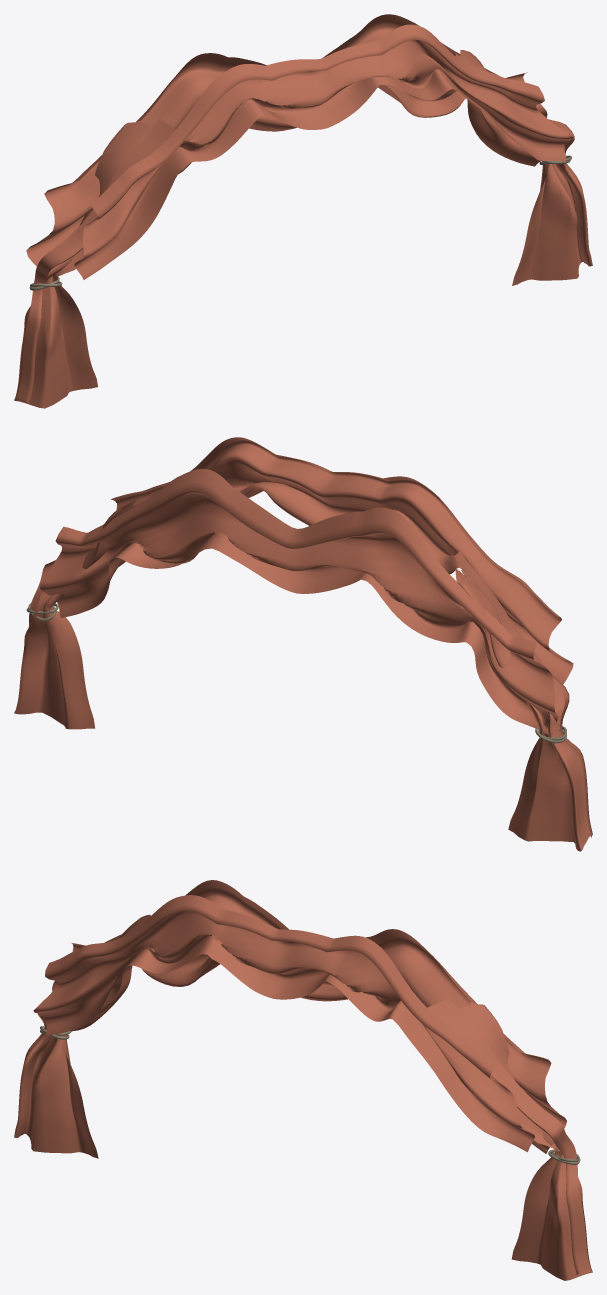
The model's file is theater_stage_curtains.glb.
3 views of the same model, one above another, from view 1: azimuth 30°, elevation 25°; view 2: azimuth 150°, elevation 25°; view 3: azimuth 330°, elevation 25° (orthographic).
Parts seen in each view (by area): view 1: curtains3; view 2: curtains3; view 3: curtains3.
Boxes of the visible parts, left/top/right/bottom form: curtains3: left=14, top=14, right=592, bottom=408; curtains3: left=14, top=437, right=592, bottom=851; curtains3: left=14, top=880, right=592, bottom=1280.
Bounding box in the file's own units: 7.52 × 3.89 × 1.09.
